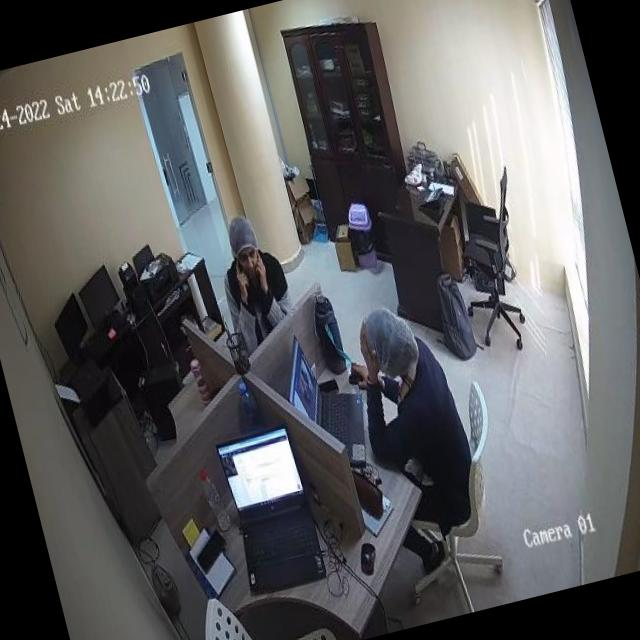hairnet: (360, 302, 422, 381), (225, 213, 258, 260)
